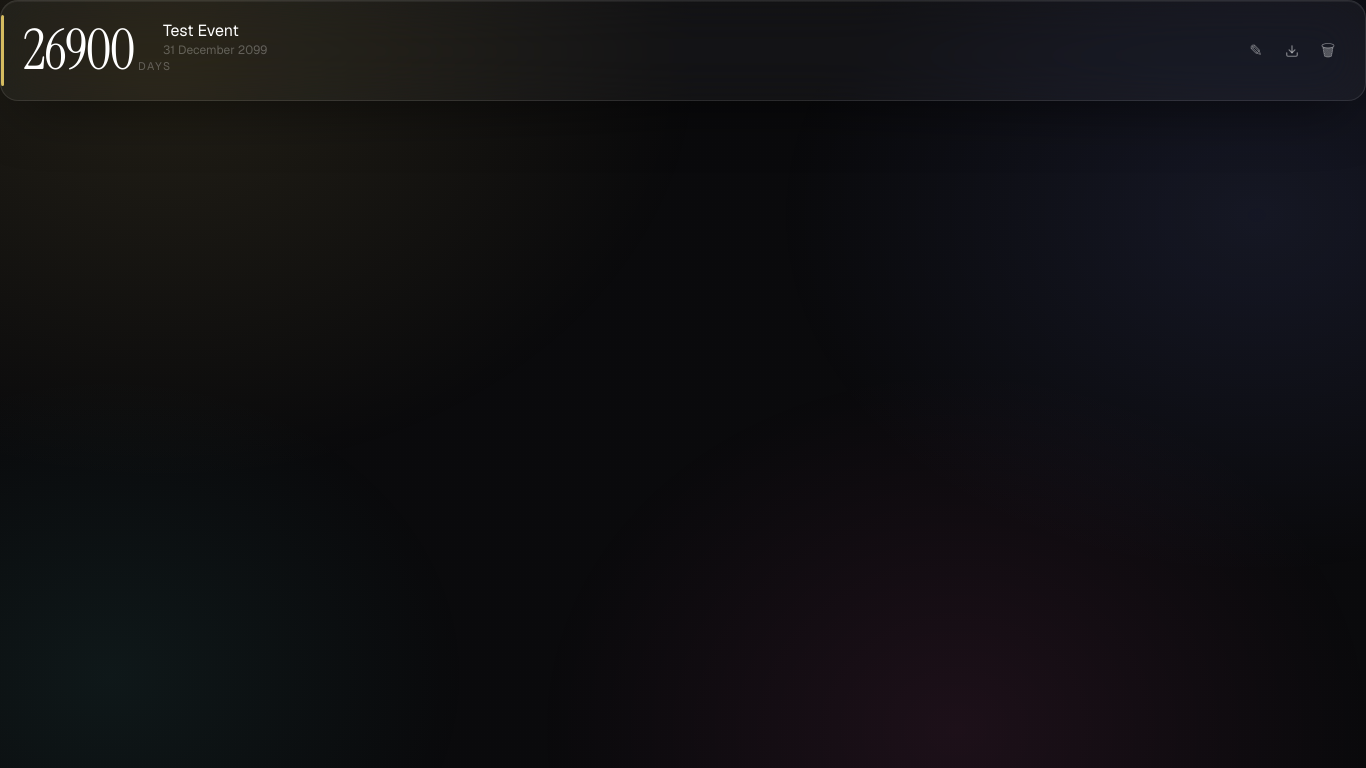
EventItem › shows input with event name value when name is clicked
Click the text "Test Event". click: [201, 30]
box: [163,20,239,41]
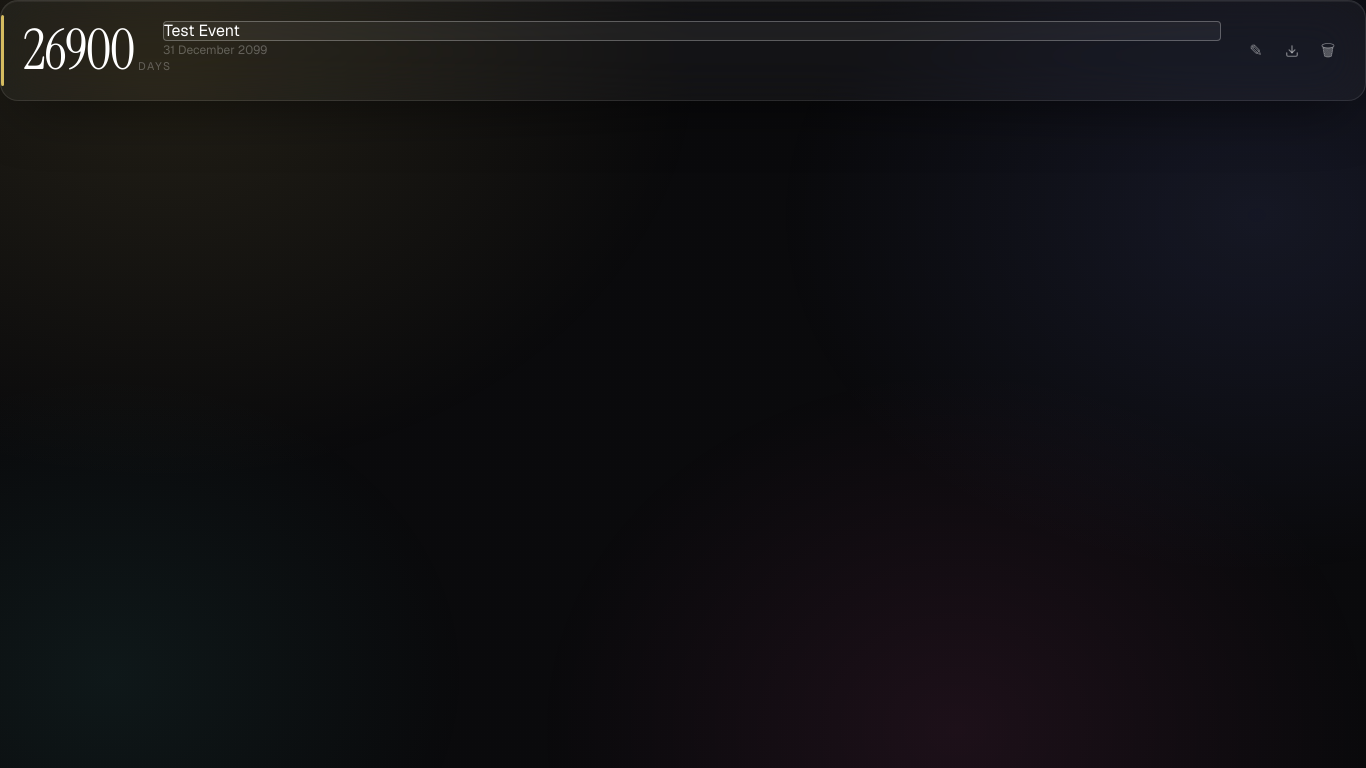
Expected: the field holds "Test Event", [163,21,1221,41]
